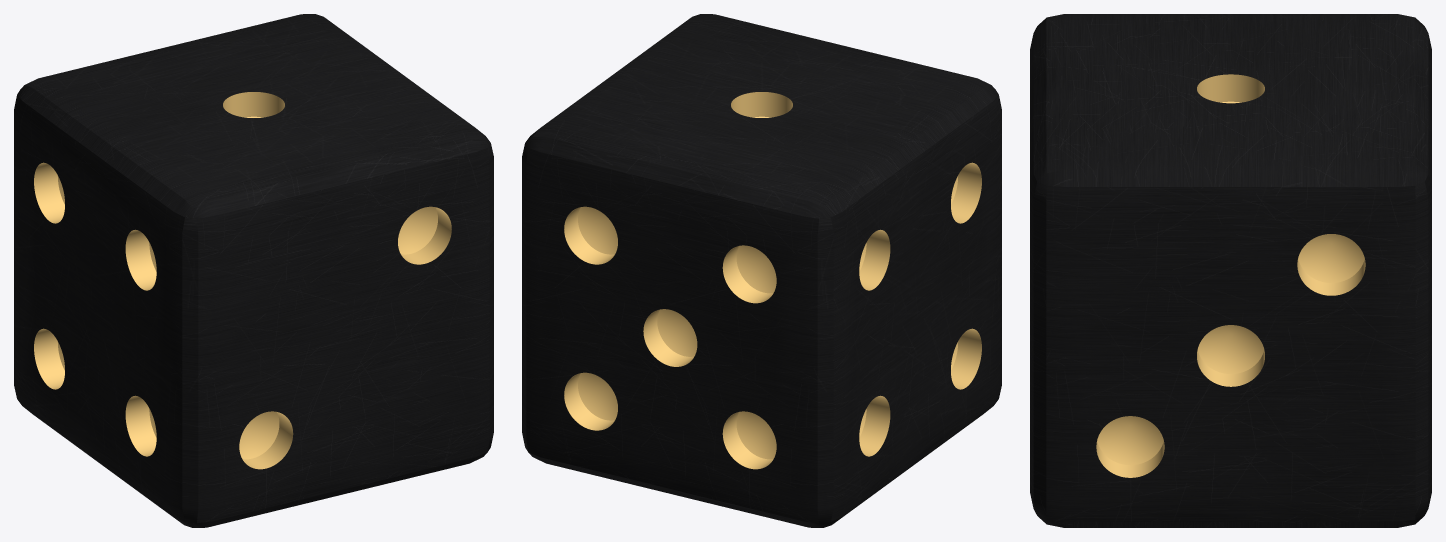
Rendered from MP_Dice.glb.
The picture shows the model from 3 angles, left to right: view 1: azimuth 30°, elevation 25°; view 2: azimuth 150°, elevation 25°; view 3: azimuth 270°, elevation 25°; orthographic projection. The views are drawn at different scales.
Parts seen in each view (by area): view 1: Die_BlackGold; view 2: Die_BlackGold; view 3: Die_BlackGold.
Part boxes in pixels (x1,y1,x2,y2): Die_BlackGold: (14, 14, 493, 527); Die_BlackGold: (522, 14, 1001, 527); Die_BlackGold: (1030, 14, 1431, 527).
Size of the model in its own units: 0.02 by 0.02 by 0.02.
2 materials, 1 textured.
